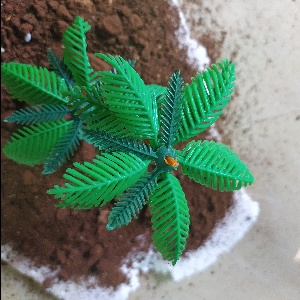plant: (19, 36, 227, 246)
